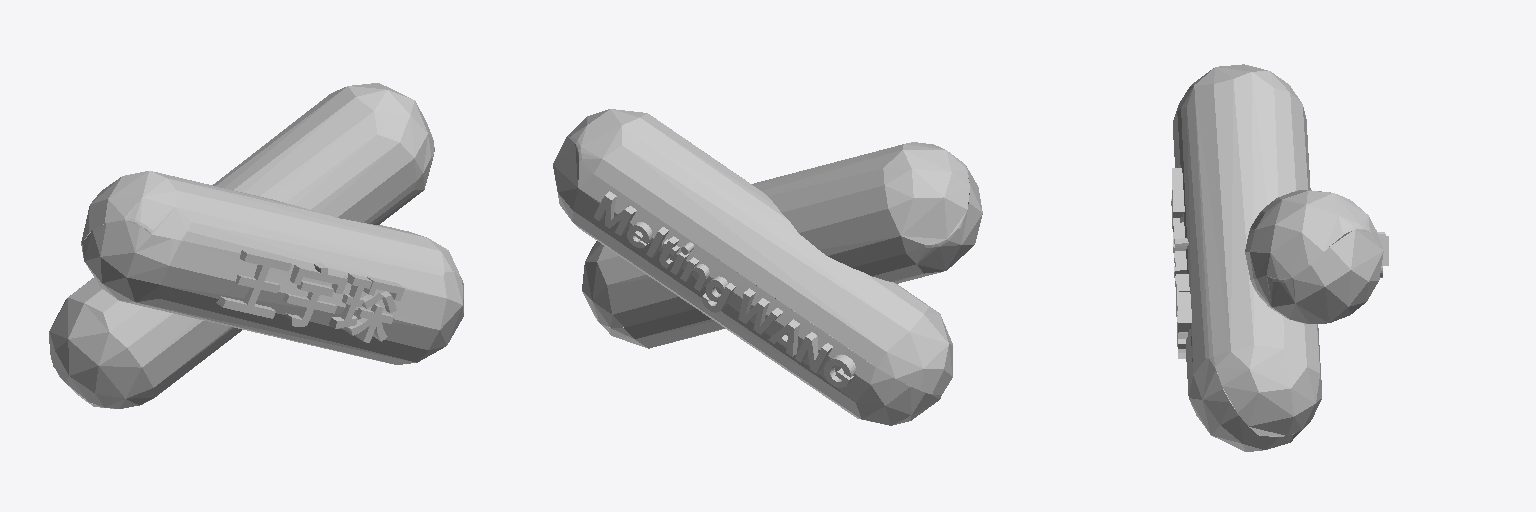
File: MeltingWang.obj
The picture shows the model from 3 angles: view 1: azimuth 30°, elevation 25°; view 2: azimuth 150°, elevation 25°; view 3: azimuth 270°, elevation 25°; orthographic projection.
Visible parts, largest first — view 1: root_3, root_2, node_id561; view 2: root_2, root_3, node_id572; view 3: root_3, root_2, node_id561.
Part boxes in pixels (bbox=[...]): root_3: bbox=[81, 171, 463, 364]; root_2: bbox=[49, 83, 434, 408]; node_id561: bbox=[216, 250, 404, 342]; root_2: bbox=[553, 109, 952, 425]; root_3: bbox=[582, 142, 982, 348]; node_id572: bbox=[594, 191, 855, 387]; root_3: bbox=[1173, 64, 1321, 451]; root_2: bbox=[1245, 190, 1383, 323]; node_id561: bbox=[1171, 168, 1191, 358].
Size of the model in its own units: 0.289 by 0.1836 by 0.1442.